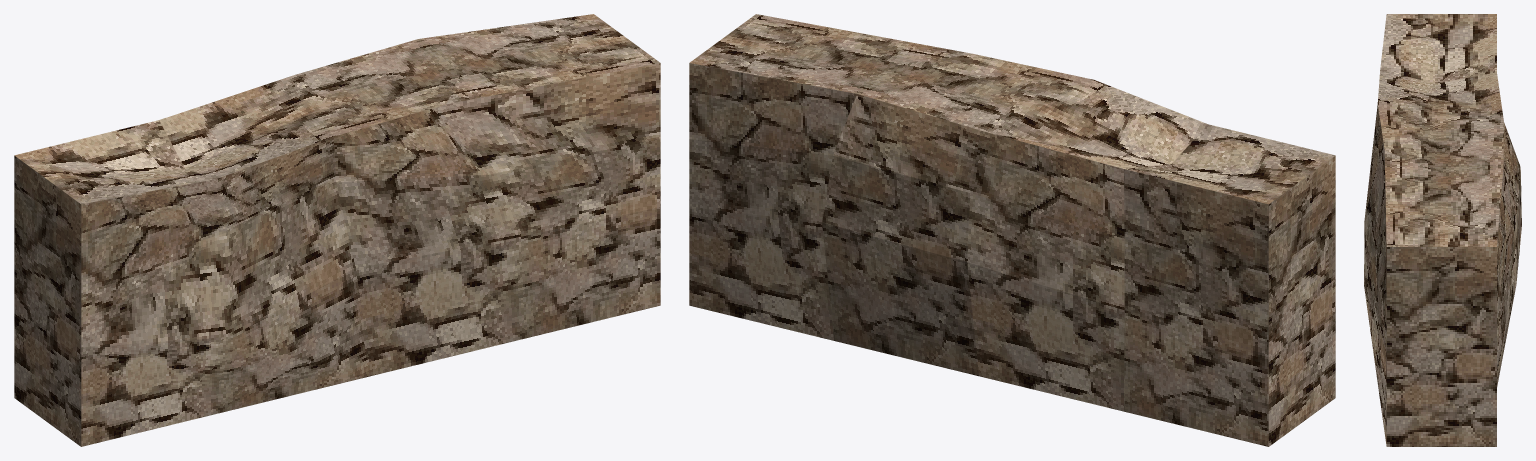
File: drystone_wall.glb
3 views of the same model, side by side, from view 1: azimuth 30°, elevation 25°; view 2: azimuth 150°, elevation 25°; view 3: azimuth 270°, elevation 25° (orthographic). The views are drawn at different scales.
Visible parts, largest first — view 1: drystone_wall; view 2: drystone_wall; view 3: drystone_wall.
Part boxes in pixels (left/top/right/bottom): drystone_wall: left=14, top=14, right=660, bottom=446; drystone_wall: left=689, top=14, right=1335, bottom=446; drystone_wall: left=1364, top=14, right=1521, bottom=446.
Size of the model in its own units: 2.5 by 1.06 by 0.7161.
Materials: 1 (1 with a texture image).
